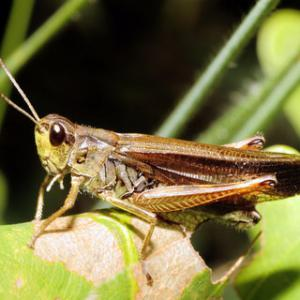locust: (6, 62, 298, 260)
